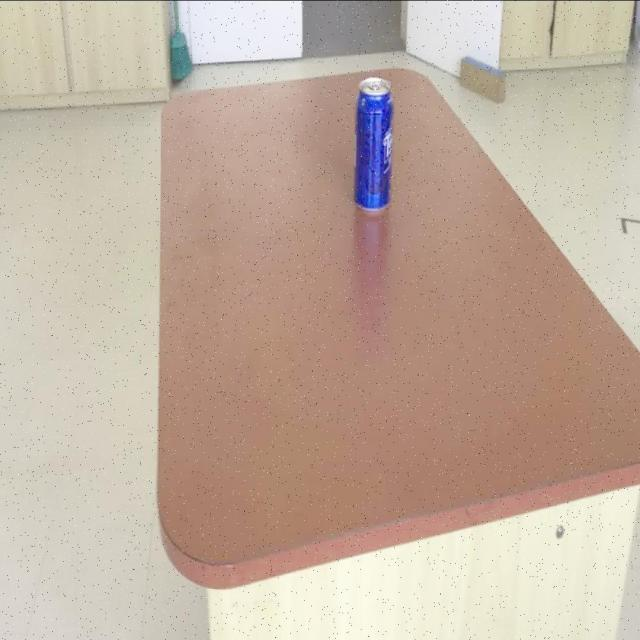Tonic: (352, 77, 393, 289), (353, 76, 394, 216)
